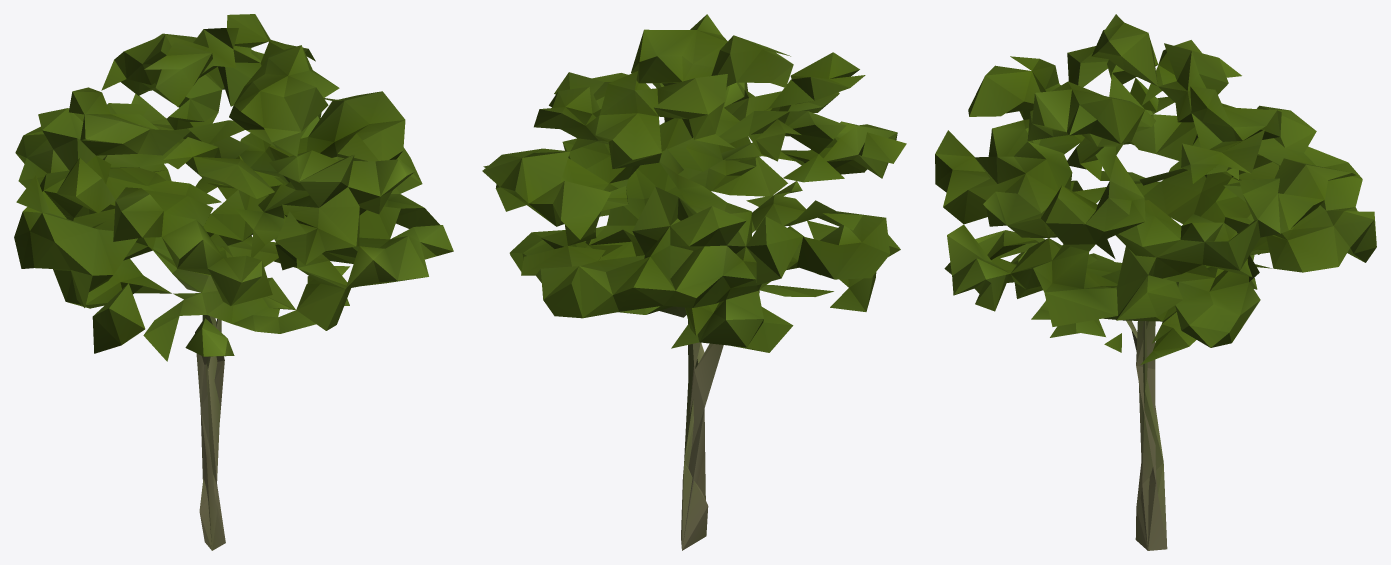
The model's file is lib_tp_hoe.vc2.glb.
3 renders of one model, left to right at view 1: azimuth 30°, elevation 25°; view 2: azimuth 150°, elevation 25°; view 3: azimuth 270°, elevation 25°, orthographic. The views are drawn at different scales.
Visible parts, largest first — view 1: lib_tp_hoe; view 2: lib_tp_hoe; view 3: lib_tp_hoe.
Boxes of the visible parts, <box> form: lib_tp_hoe: <box>14,14,453,550</box>; lib_tp_hoe: <box>482,14,906,550</box>; lib_tp_hoe: <box>935,14,1376,550</box>.
Size of the model in its own units: 1.47 by 1.85 by 1.49.
